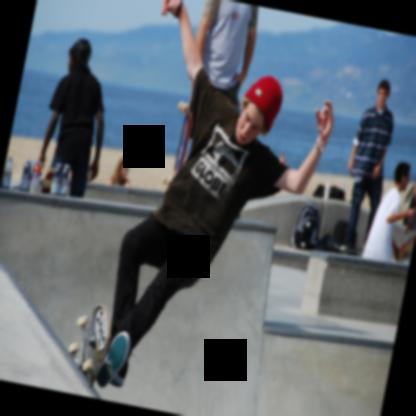backpack: (290, 202, 321, 249), (333, 218, 349, 246)
